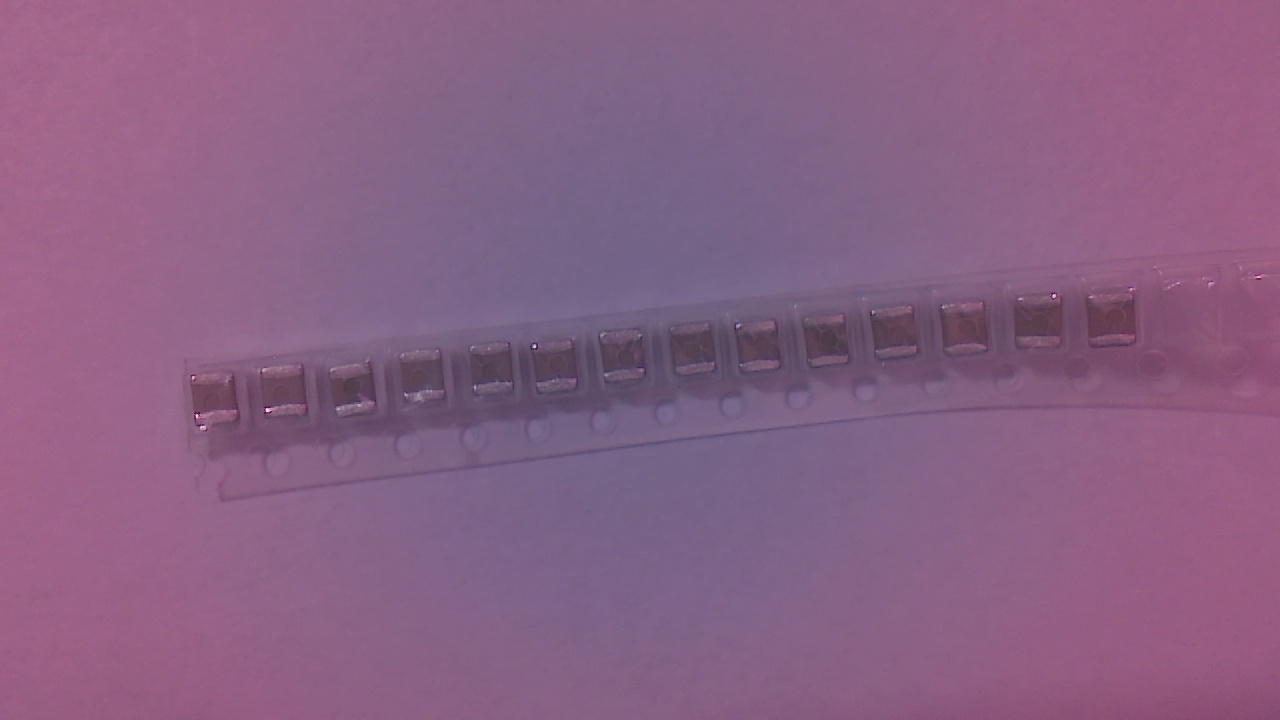Condensator: (1089, 294, 1149, 360), (1015, 297, 1073, 357), (874, 305, 929, 368), (601, 331, 655, 394), (942, 303, 996, 364), (807, 318, 861, 379), (533, 342, 588, 401), (192, 374, 246, 433), (405, 349, 453, 412), (471, 343, 522, 402), (737, 322, 790, 378), (673, 325, 724, 383), (333, 367, 383, 424), (264, 367, 313, 424)
